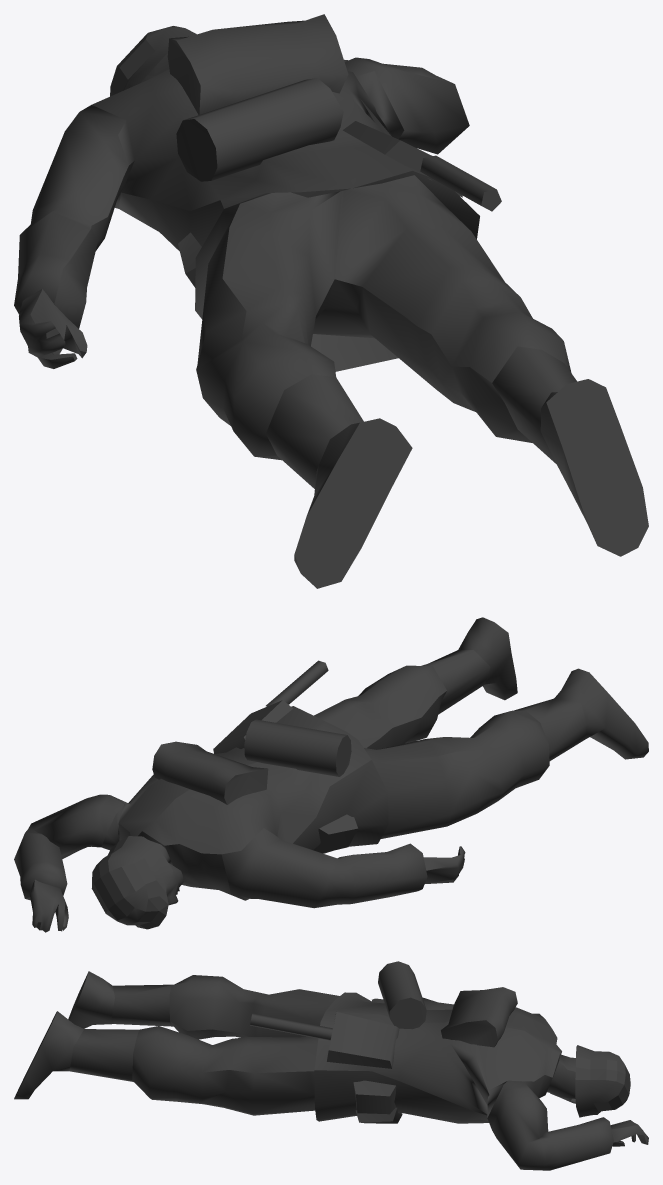
File: de_morto.glb
3 renders of one model, top to bottom at view 1: azimuth 30°, elevation 25°; view 2: azimuth 150°, elevation 25°; view 3: azimuth 270°, elevation 25°, orthographic. The views are drawn at different scales.
Visible parts, largest first — view 1: skin.001_skin.005_1; view 2: skin.001_skin.005_1; view 3: skin.001_skin.005_1.
Part boxes in pixels (left/top/right/bottom): skin.001_skin.005_1: left=14, top=14, right=648, bottom=588; skin.001_skin.005_1: left=14, top=617, right=648, bottom=932; skin.001_skin.005_1: left=14, top=961, right=648, bottom=1170.
Size of the model in its own units: 0.3235 by 0.123 by 0.5554.
1 material, 1 textured.
